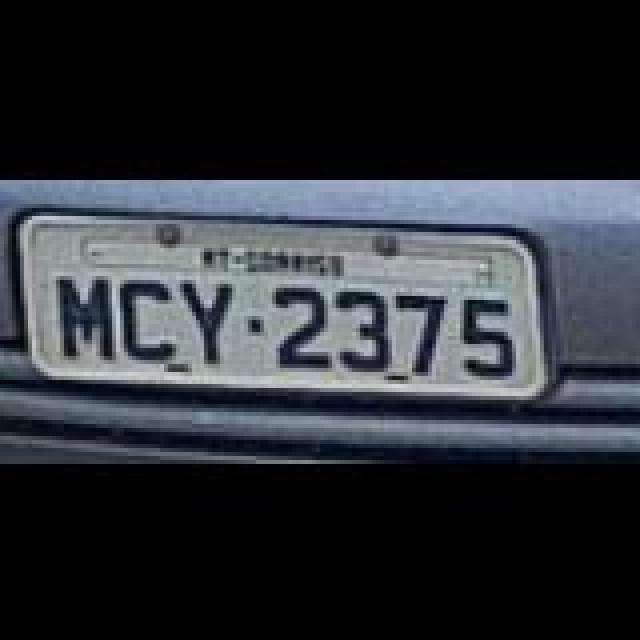2: (274, 282, 334, 366)
3: (340, 286, 396, 370)
5: (458, 296, 518, 376)
7: (396, 290, 452, 374)
C: (118, 278, 178, 362)
M: (58, 274, 118, 358)
Y: (182, 278, 242, 362)
